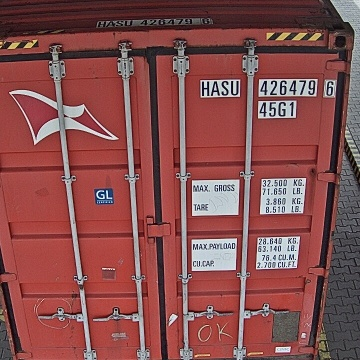serial_id: (201, 80, 335, 96)
